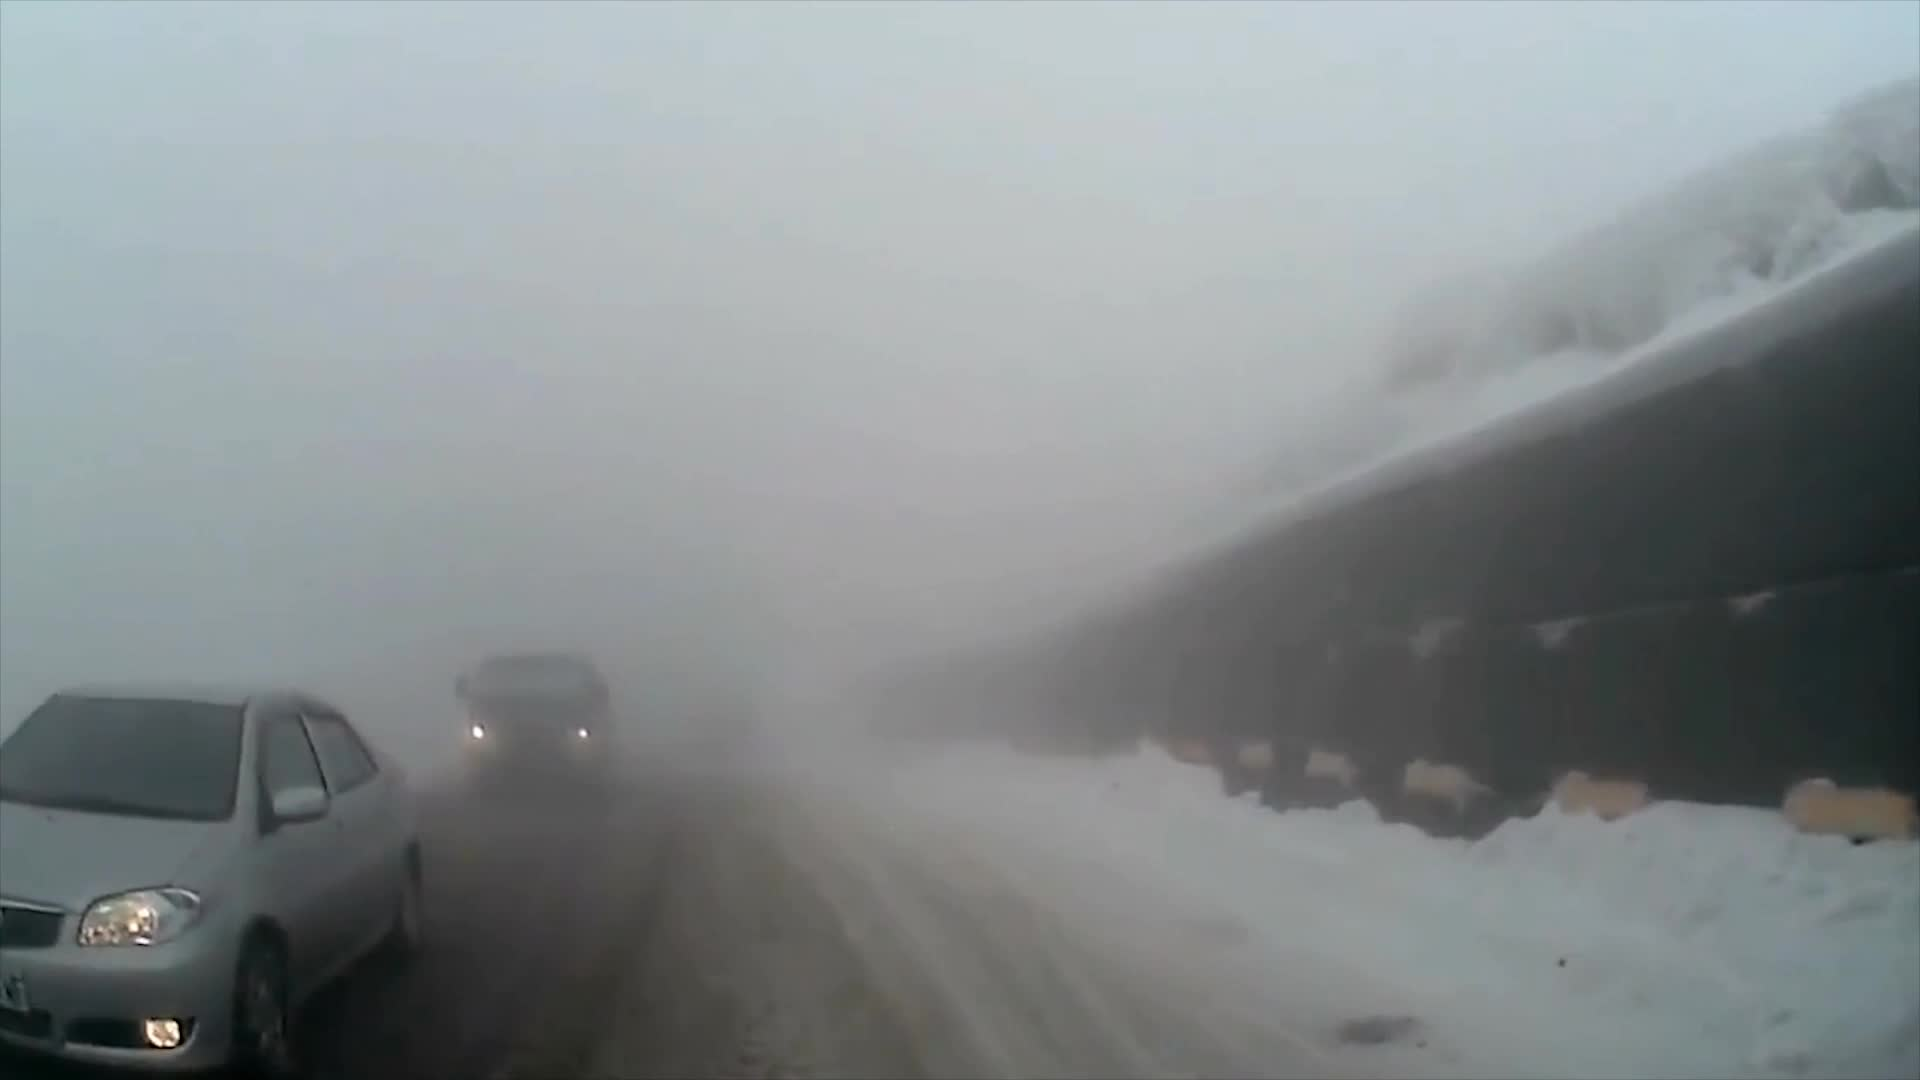vehicle: (0, 680, 433, 1080), (452, 651, 617, 795)
